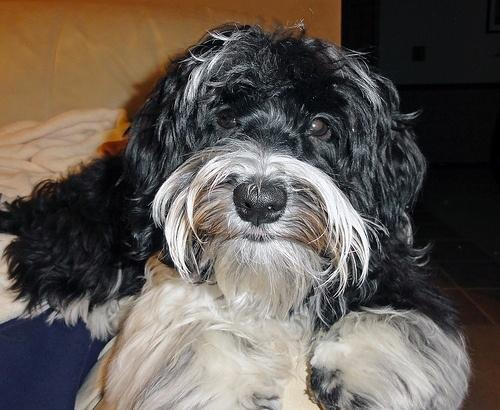dog: (0, 26, 469, 409)
